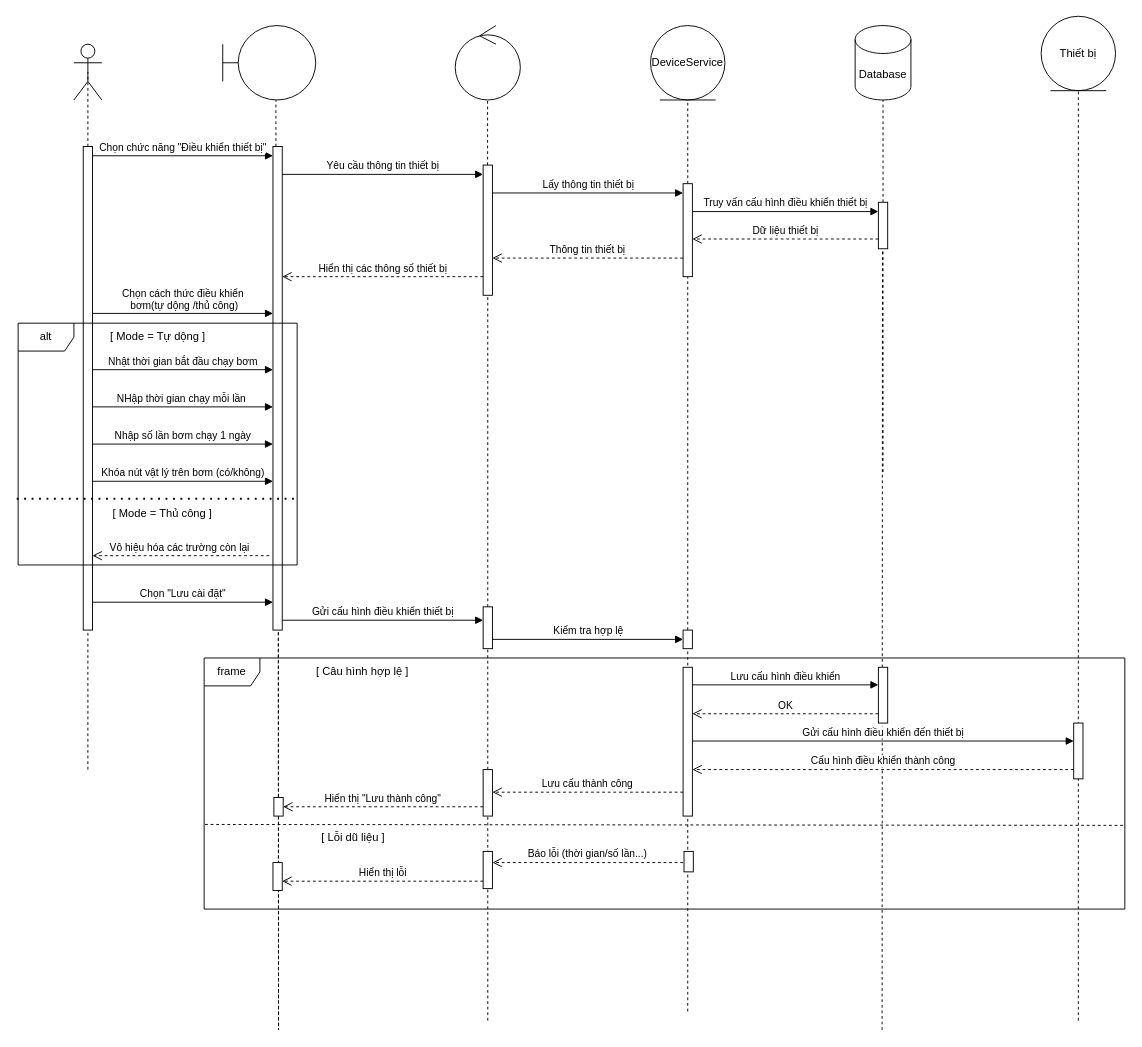
Some shapes in this 1142 by 1047 pixel diagram are drawn without their labels. The shapes that lost their labels are listed below. From the top down, each one's centre as x and y in pixels, then its label:
(87,71): User
(269,62): Giao diện
(487,62): DeviceController
